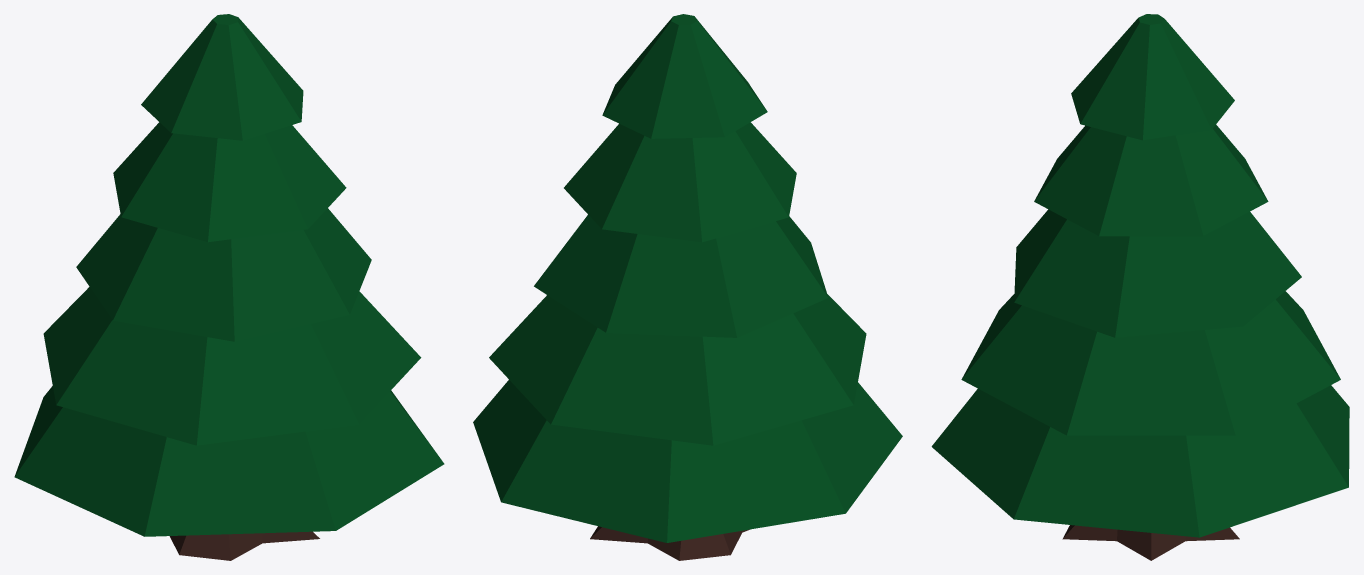
3 renders of one model, left to right at view 1: azimuth 30°, elevation 25°; view 2: azimuth 150°, elevation 25°; view 3: azimuth 270°, elevation 25°, orthographic.
Visible parts, largest first — view 1: Cylinder.016, Cylinder.017; view 2: Cylinder.016, Cylinder.017; view 3: Cylinder.016, Cylinder.017.
Part boxes in pixels (x1,y1,x2,y2): Cylinder.016: [14, 14, 444, 536]; Cylinder.017: [169, 531, 319, 560]; Cylinder.016: [473, 14, 902, 542]; Cylinder.017: [590, 526, 750, 560]; Cylinder.016: [931, 14, 1349, 537]; Cylinder.017: [1062, 525, 1239, 560].
Size of the model in its own units: 5.21 by 6.64 by 5.08.
